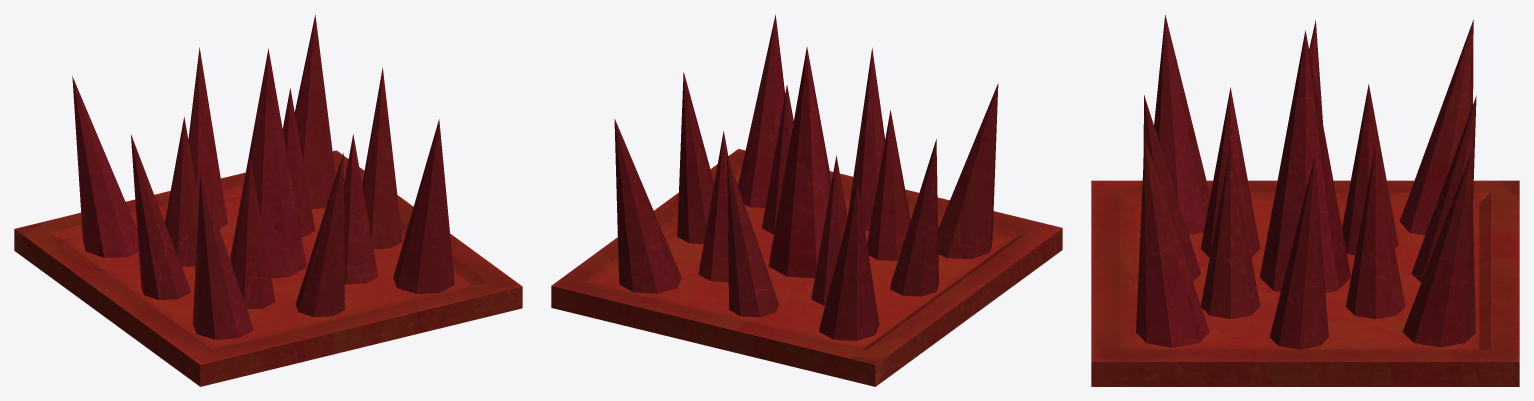
File: pinchos.obj
3 views of the same model, side by side, from view 1: azimuth 30°, elevation 25°; view 2: azimuth 150°, elevation 25°; view 3: azimuth 270°, elevation 25° (orthographic). The views are drawn at different scales.
Parts seen in each view (by area): view 1: pCone1_initialShadingGroup, pCube1_blinn1SG; view 2: pCone1_initialShadingGroup, pCube1_blinn1SG; view 3: pCone1_initialShadingGroup, pCube1_blinn1SG.
Part boxes in pixels (x1=…): pCone1_initialShadingGroup: x1=72, y1=15, x2=454, y2=339; pCube1_blinn1SG: x1=14, y1=150, x2=522, y2=386; pCone1_initialShadingGroup: x1=614, y1=15, x2=998, y2=340; pCube1_blinn1SG: x1=551, y1=149, x2=1062, y2=386; pCone1_initialShadingGroup: x1=1136, y1=15, x2=1476, y2=349; pCube1_blinn1SG: x1=1091, y1=180, x2=1519, y2=386.
Bounding box in the file's own units: 100 × 68.67 × 100.
2 materials, 2 textured.
